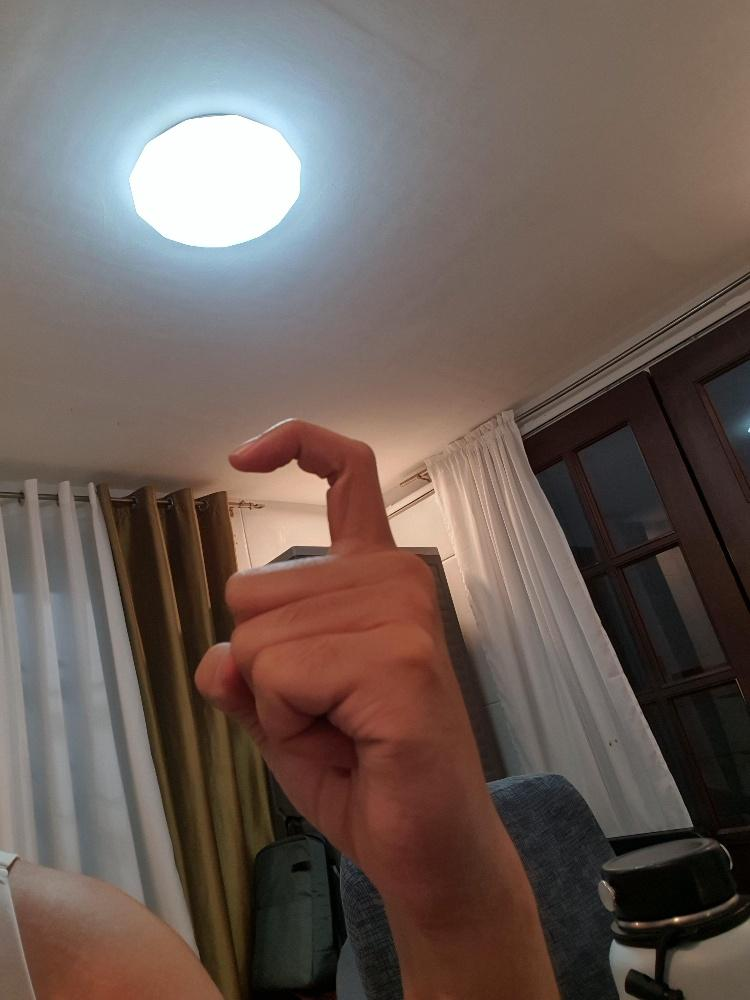x: (189, 411, 492, 902)
